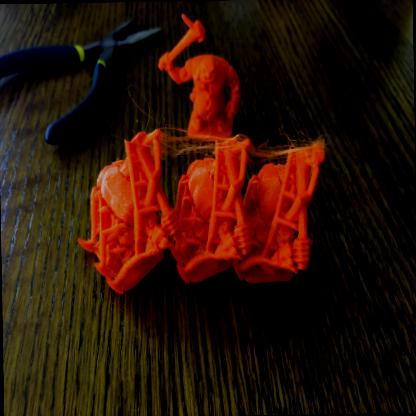fail: (159, 120, 216, 158), (251, 137, 289, 163), (290, 129, 315, 147)
